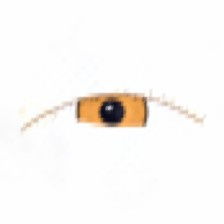pinguecula_lesion: (34, 99, 77, 133)
